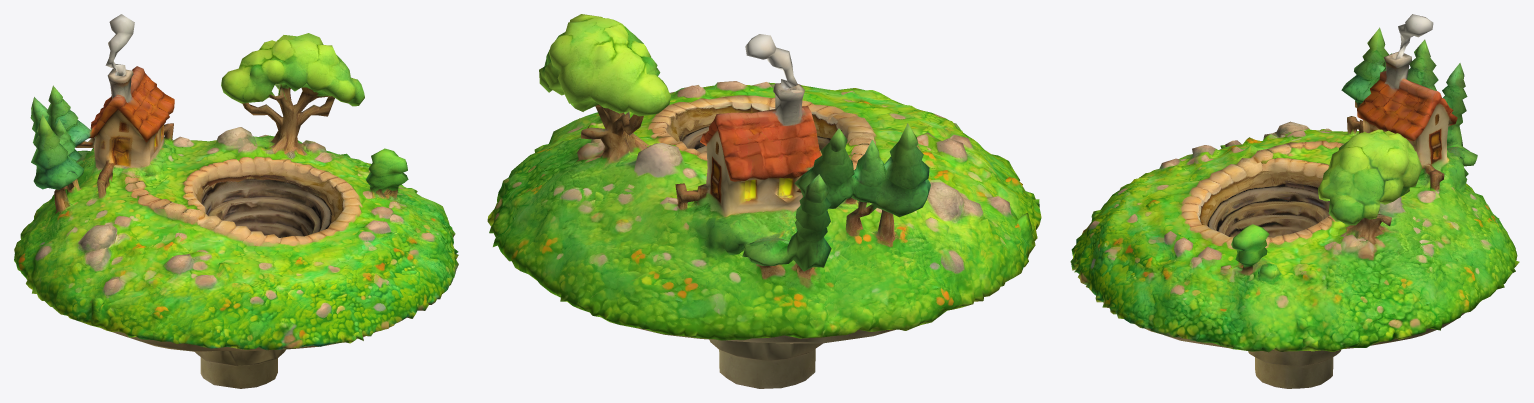
File: planet_tmp.glb
3 views of the same model, side by side, from view 1: azimuth 30°, elevation 25°; view 2: azimuth 150°, elevation 25°; view 3: azimuth 270°, elevation 25° (orthographic). The views are drawn at different scales.
Size of the model in its own units: 1.9 by 1.53 by 1.9.
1 material, 1 textured.
